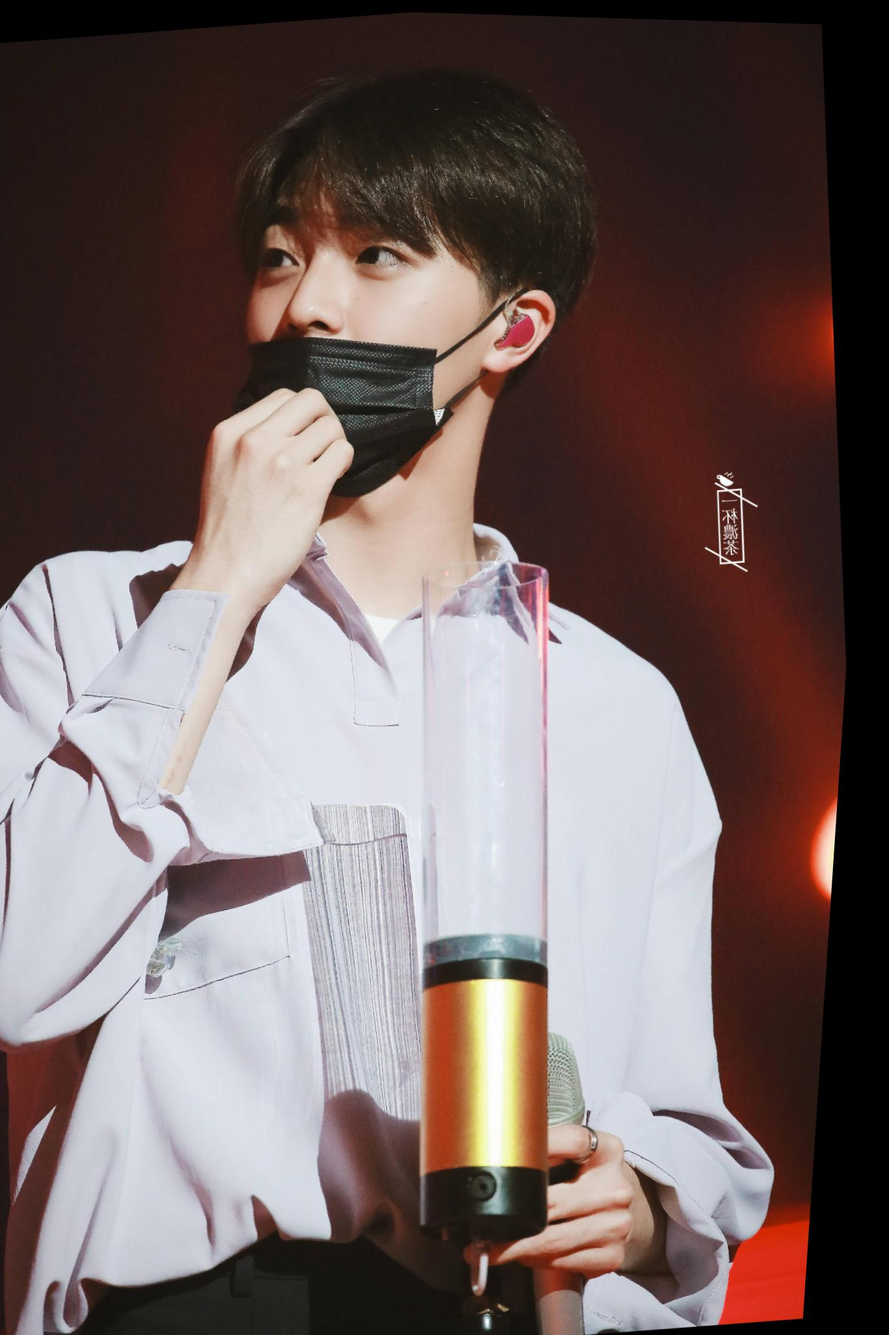WRONG: (223, 158, 525, 516)
